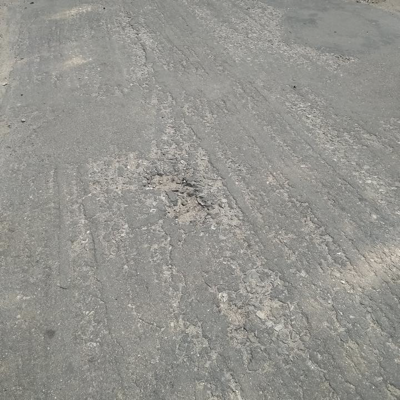pothole: (143, 170, 213, 228)
